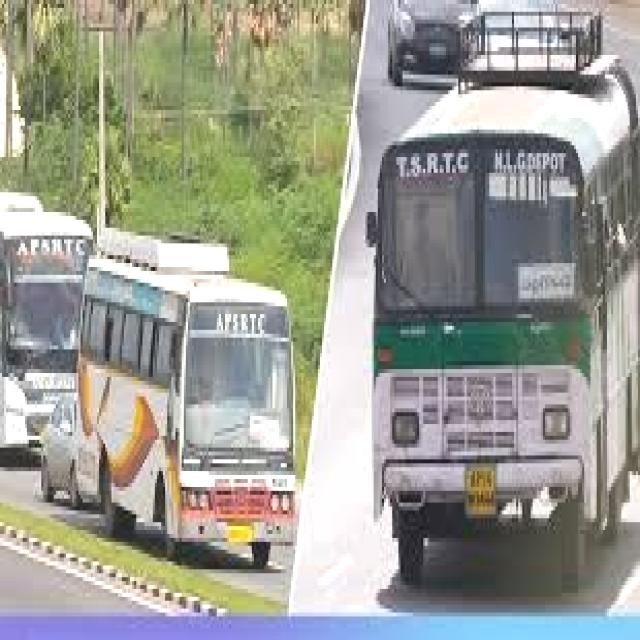bus: (359, 6, 640, 610), (71, 199, 308, 580), (1, 169, 81, 442)
